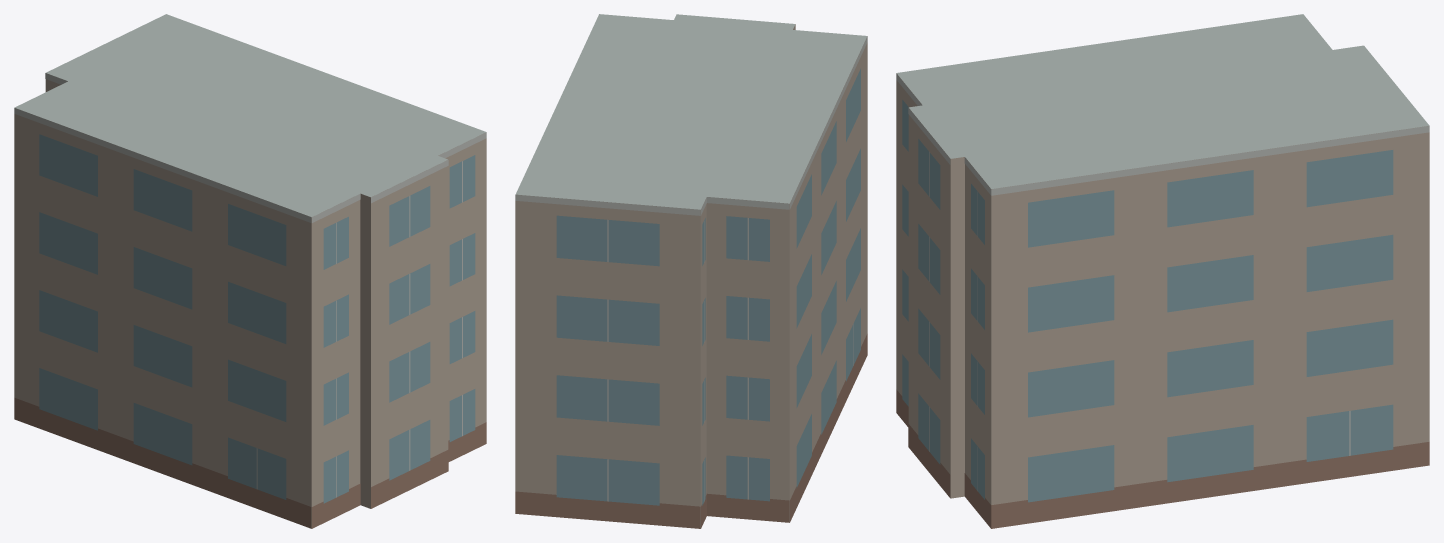
Rendered from survey-upis-32613558.glb.
3 renders of one model, left to right at view 1: azimuth 30°, elevation 25°; view 2: azimuth 150°, elevation 25°; view 3: azimuth 270°, elevation 25°, orthographic. The views are drawn at different scales.
Parts seen in each view (by area): view 1: survey-upis-32613558.tmp; view 2: survey-upis-32613558.tmp; view 3: survey-upis-32613558.tmp.
Part boxes in pixels (<box>): survey-upis-32613558.tmp: <box>14,14,486,528</box>; survey-upis-32613558.tmp: <box>515,14,867,528</box>; survey-upis-32613558.tmp: <box>896,14,1429,528</box>.
Bounding box in the file's own units: 13.82 × 12.49 × 17.78.
